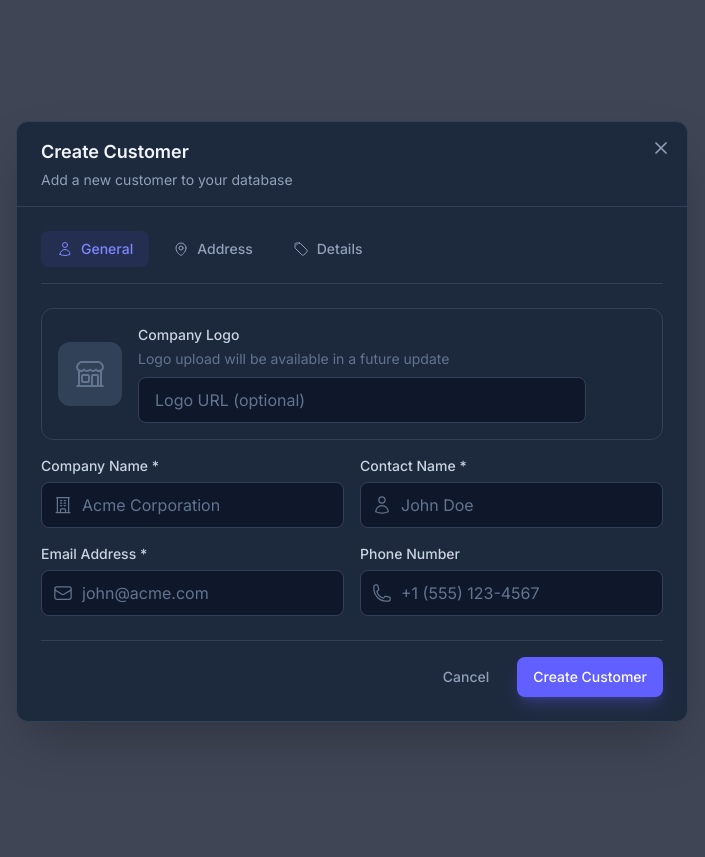
CustomerForm › Address tab fields › shows shipping address when "same address" is unchecked
Click the button "Address" at (213, 248), box [157,230,269,266]
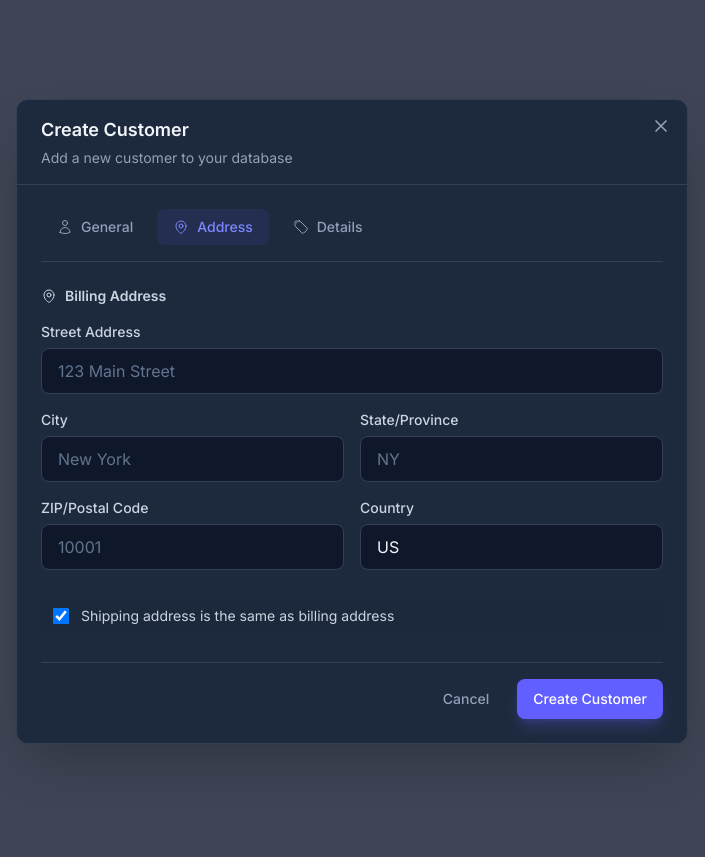
Click the checkbox labelled "Shipping address is the same as billing address" at (61, 616), box [53,608,69,624]
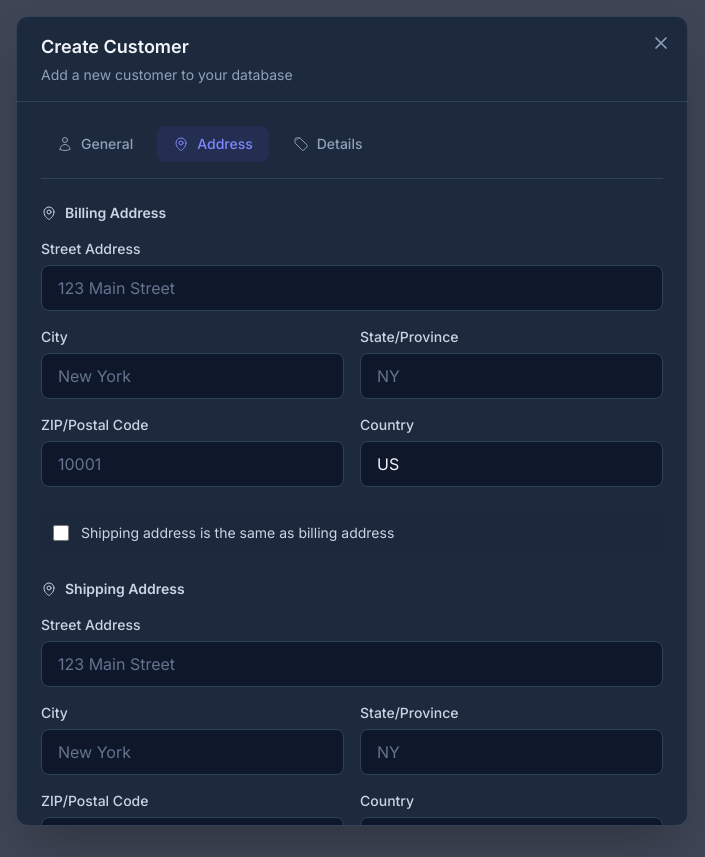
Check: the heading "Shipping Address" is shown, box [41,580,185,597]
